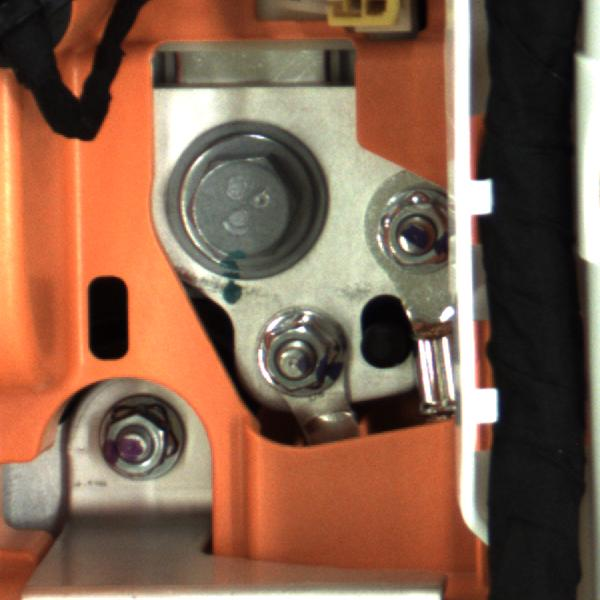nut_b: (163, 122, 334, 282)
screw_s: (247, 310, 350, 406), (95, 392, 189, 489), (373, 187, 461, 276)
